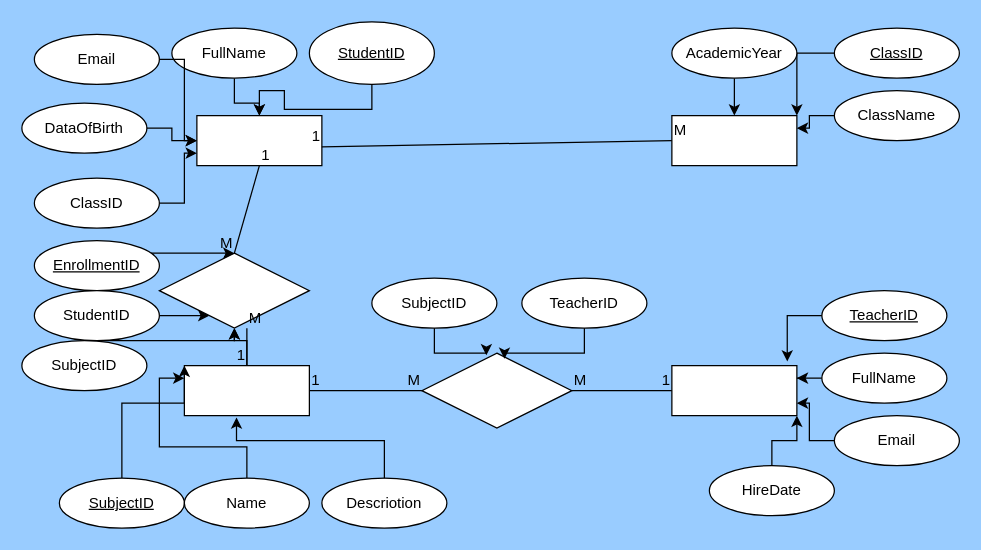
Image size: 981x550. Some labels were removed from this diagram. The shapes that lost their labels are listed below. From the top down, each one's box as (x1, y1, x2, y2) in pixels, then its label:
(196, 114, 322, 166): Student
(671, 114, 797, 166): Class
(158, 252, 309, 328): Enrollment
(183, 364, 309, 416): Subject
(421, 352, 572, 428): TeacherSubject
(671, 364, 797, 416): Teacher
